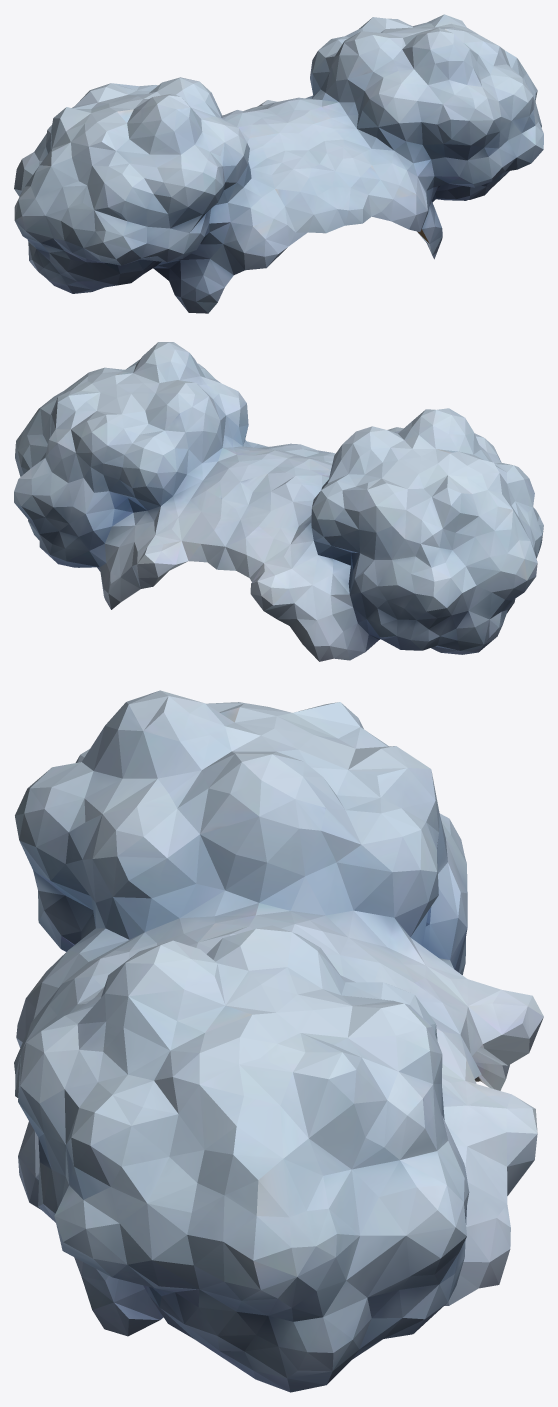
Rendered from hairstyle.glb.
3 views of the same model, one above another, from view 1: azimuth 30°, elevation 25°; view 2: azimuth 150°, elevation 25°; view 3: azimuth 270°, elevation 25° (orthographic). The views are drawn at different scales.
Visible parts, largest first — view 1: geometry_0.001; view 2: geometry_0.001; view 3: geometry_0.001.
Part boxes in pixels (left/top/right/bottom): geometry_0.001: left=14, top=14, right=543, bottom=313; geometry_0.001: left=14, top=342, right=543, bottom=661; geometry_0.001: left=14, top=690, right=543, bottom=1392.
Bounding box in the file's own units: 1.43 × 0.5631 × 0.6713.
1 material, 1 textured.
